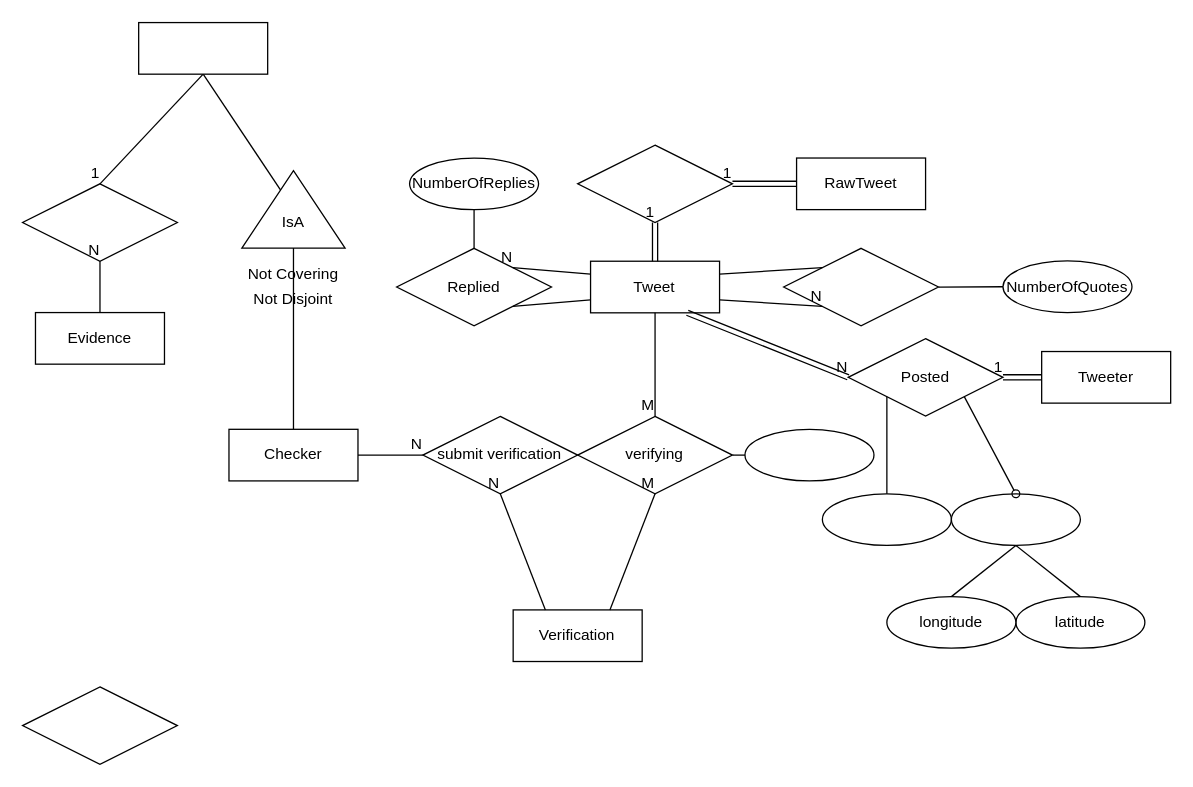
This 1193x787 diagram has some shape labels left out. The shapes that lost their labels are listed below. From the top down, each one's centre as x and y in pixels, then its label:
the point at 202,47: User
the point at 654,183: Processed
the point at 99,222: submit
the point at 860,286: quoted
the point at 809,454: about tweet?
the point at 886,519: posted time
the point at 1015,519: Posted location
the point at 99,725: IsAbout
